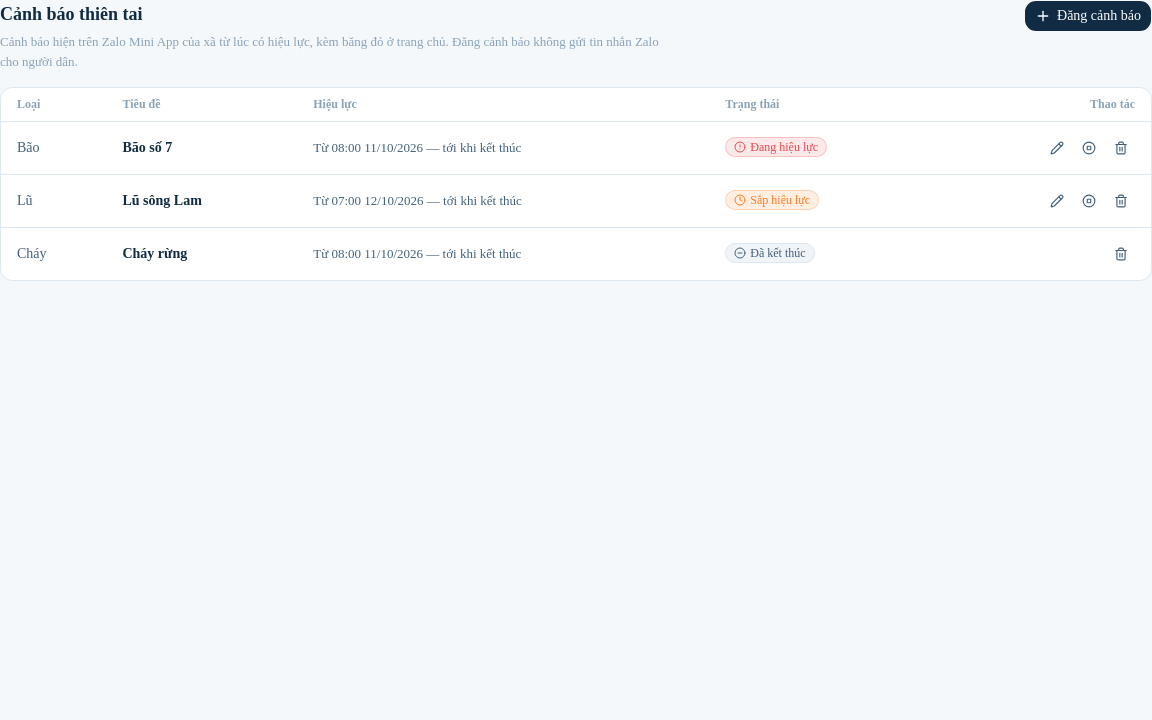
posting an alert › the emergency-number list says, verbatim, that its numbers are public
This screenshot has width=1152, height=720.
Click the button "Đăng cảnh báo": (1088, 16) x1=1024 y1=0 x2=1151 y2=32
(page scrolled)
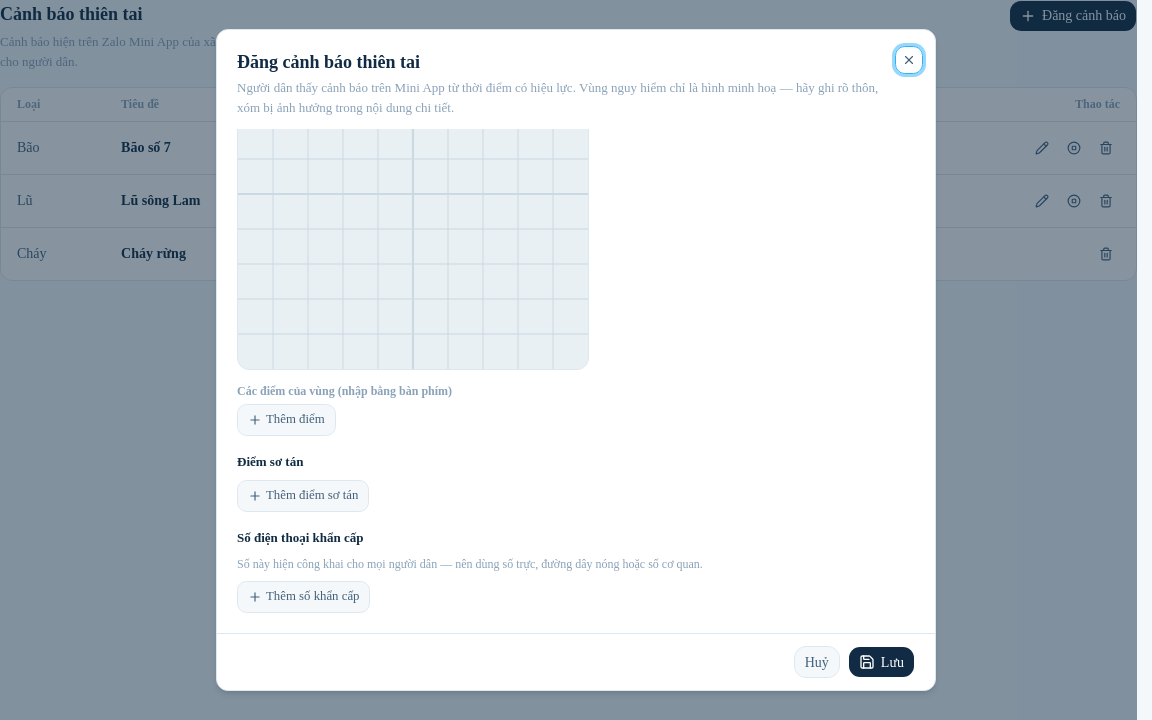
expect the text with test id "contacts-public-hint" shows "Số này hiện công khai cho mọi người dân — nên dùng số trực, đường dây nóng hoặc số cơ quan.": met, box x1=237 y1=557 x2=703 y2=571
expect the text with test id "contacts-public-hint" shows "công khai": met, box x1=237 y1=557 x2=703 y2=571
